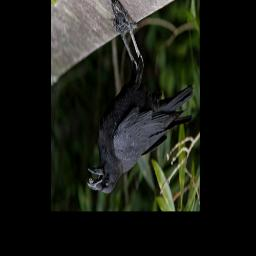Crow: (87, 10, 195, 195)
